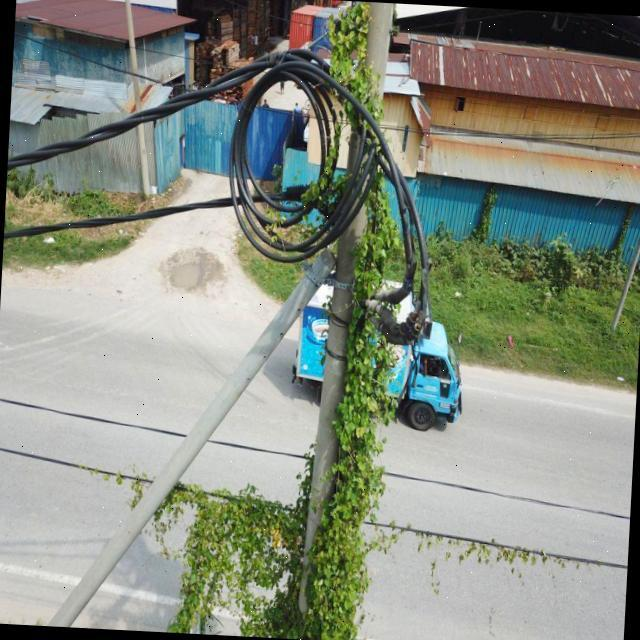critical vegetation: (139, 0, 408, 638)
